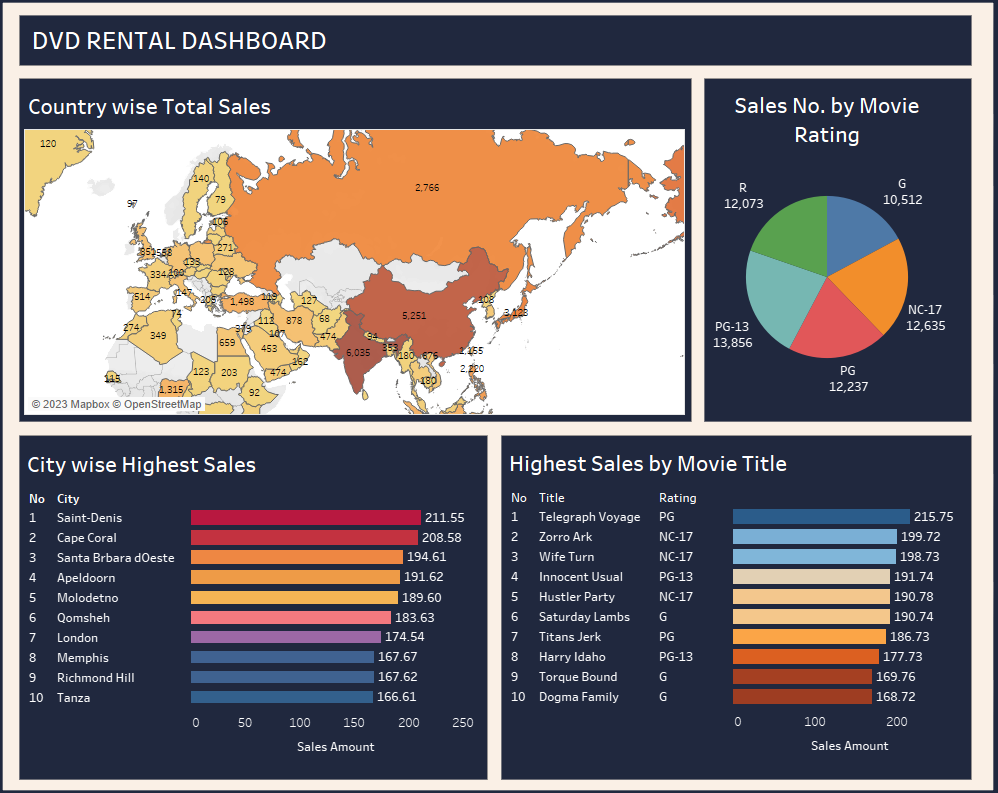

This screenshot's page, from the dashboard's own definition file:
{"tool":"tableau","page":{"name":"DVD RENTAL DASHBOARD","canvas":[1000,800],"ordinal":0},"visuals":[{"type":"text","box":[29,34,406,30]},{"type":"worksheet","title":"Movie Rating","mark":"Pie","box":[707,94,259,333]},{"type":"worksheet","title":"Country Sales","mark":"Multipolygon","box":[24,95,661,330]},{"type":"worksheet","title":"Title Sales","mark":"Automatic","rows":["Calculation_758012173985370112","title","rating"],"cols":["sales_amount"],"box":[505,452,462,336]},{"type":"worksheet","title":"City Sales","mark":"Automatic","rows":["Calculation_758012173985370112","city"],"cols":["sales_amount"],"box":[23,453,458,334]}]}

Visuals, with their boxes in screenshot pixels (x1, y1, x2, y2), scaled from the page's 1000x800 canvas onto the 998x793 screenshot:
text: box=[29, 34, 434, 63]
"Movie Rating" worksheet (Pie marks): box=[706, 93, 964, 423]
"Country Sales" worksheet (Multipolygon marks): box=[24, 94, 684, 421]
"Title Sales" worksheet: box=[504, 448, 965, 781]
"City Sales" worksheet: box=[23, 449, 480, 780]
